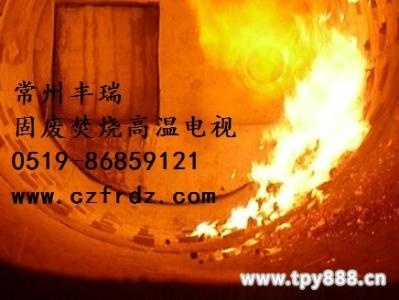fire: (235, 13, 376, 234), (187, 218, 219, 239)
